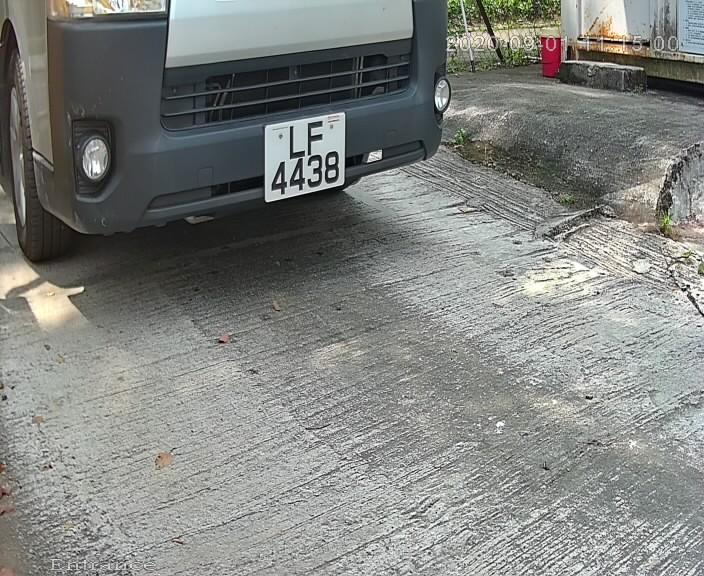License Plate: (252, 111, 359, 204)
